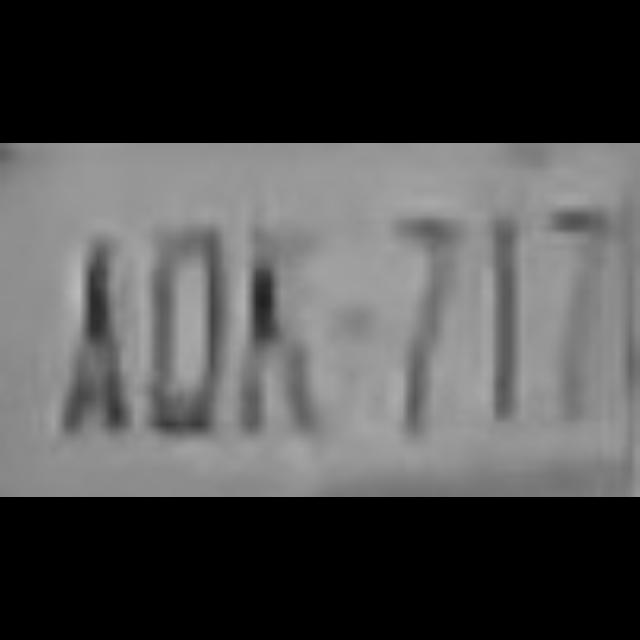1: (452, 200, 542, 440)
7: (364, 200, 454, 440), (538, 200, 628, 440)
A: (36, 200, 126, 440)
K: (228, 200, 318, 440)
Q: (134, 203, 222, 444)
